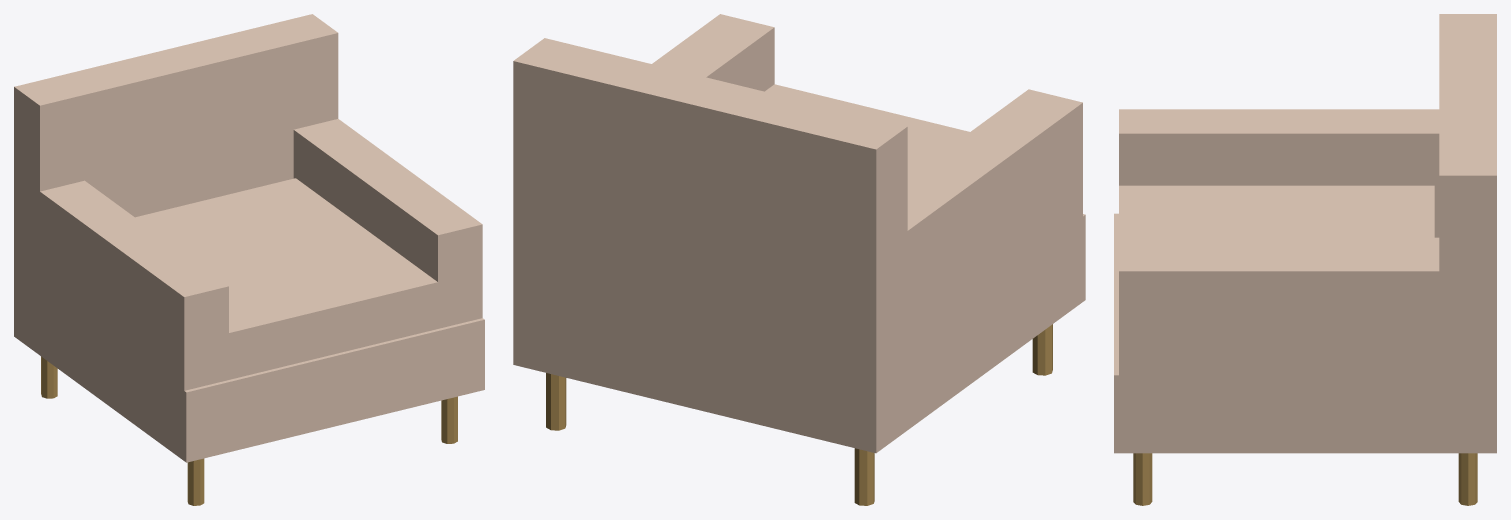
Rendered from poltrona_drenagem.glb.
3 renders of one model, left to right at view 1: azimuth 30°, elevation 25°; view 2: azimuth 150°, elevation 25°; view 3: azimuth 270°, elevation 25°, orthographic. The views are drawn at different scales.
Parts seen in each view (by area): view 1: poltrona_drenagem; view 2: poltrona_drenagem; view 3: poltrona_drenagem.
Boxes of the visible parts, x1,y1,x2,y2 form: poltrona_drenagem: (14, 14, 484, 505); poltrona_drenagem: (513, 14, 1085, 505); poltrona_drenagem: (1114, 14, 1496, 505).
Bounding box in the file's own units: 0.8 × 0.78 × 0.8.
